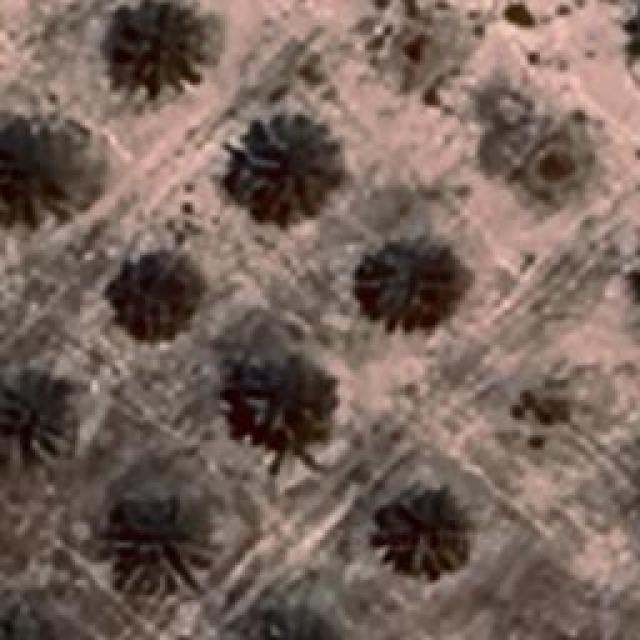PalmTree: (44, 31, 297, 624), (225, 110, 340, 222), (100, 0, 218, 98), (228, 351, 324, 454), (112, 508, 206, 592), (118, 252, 200, 338), (366, 245, 459, 320), (380, 490, 465, 572), (0, 370, 62, 460), (0, 600, 77, 640), (613, 0, 640, 73), (621, 1, 640, 76)
